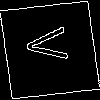V: (24, 25, 78, 64)
